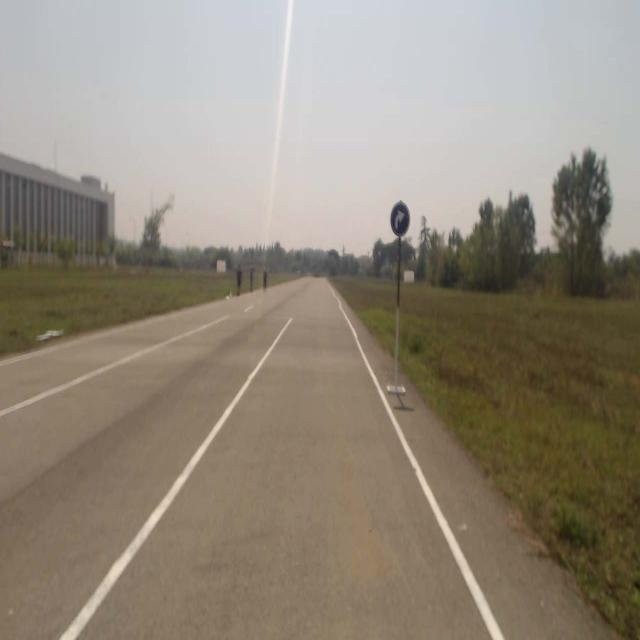sag: (391, 202, 411, 236)
